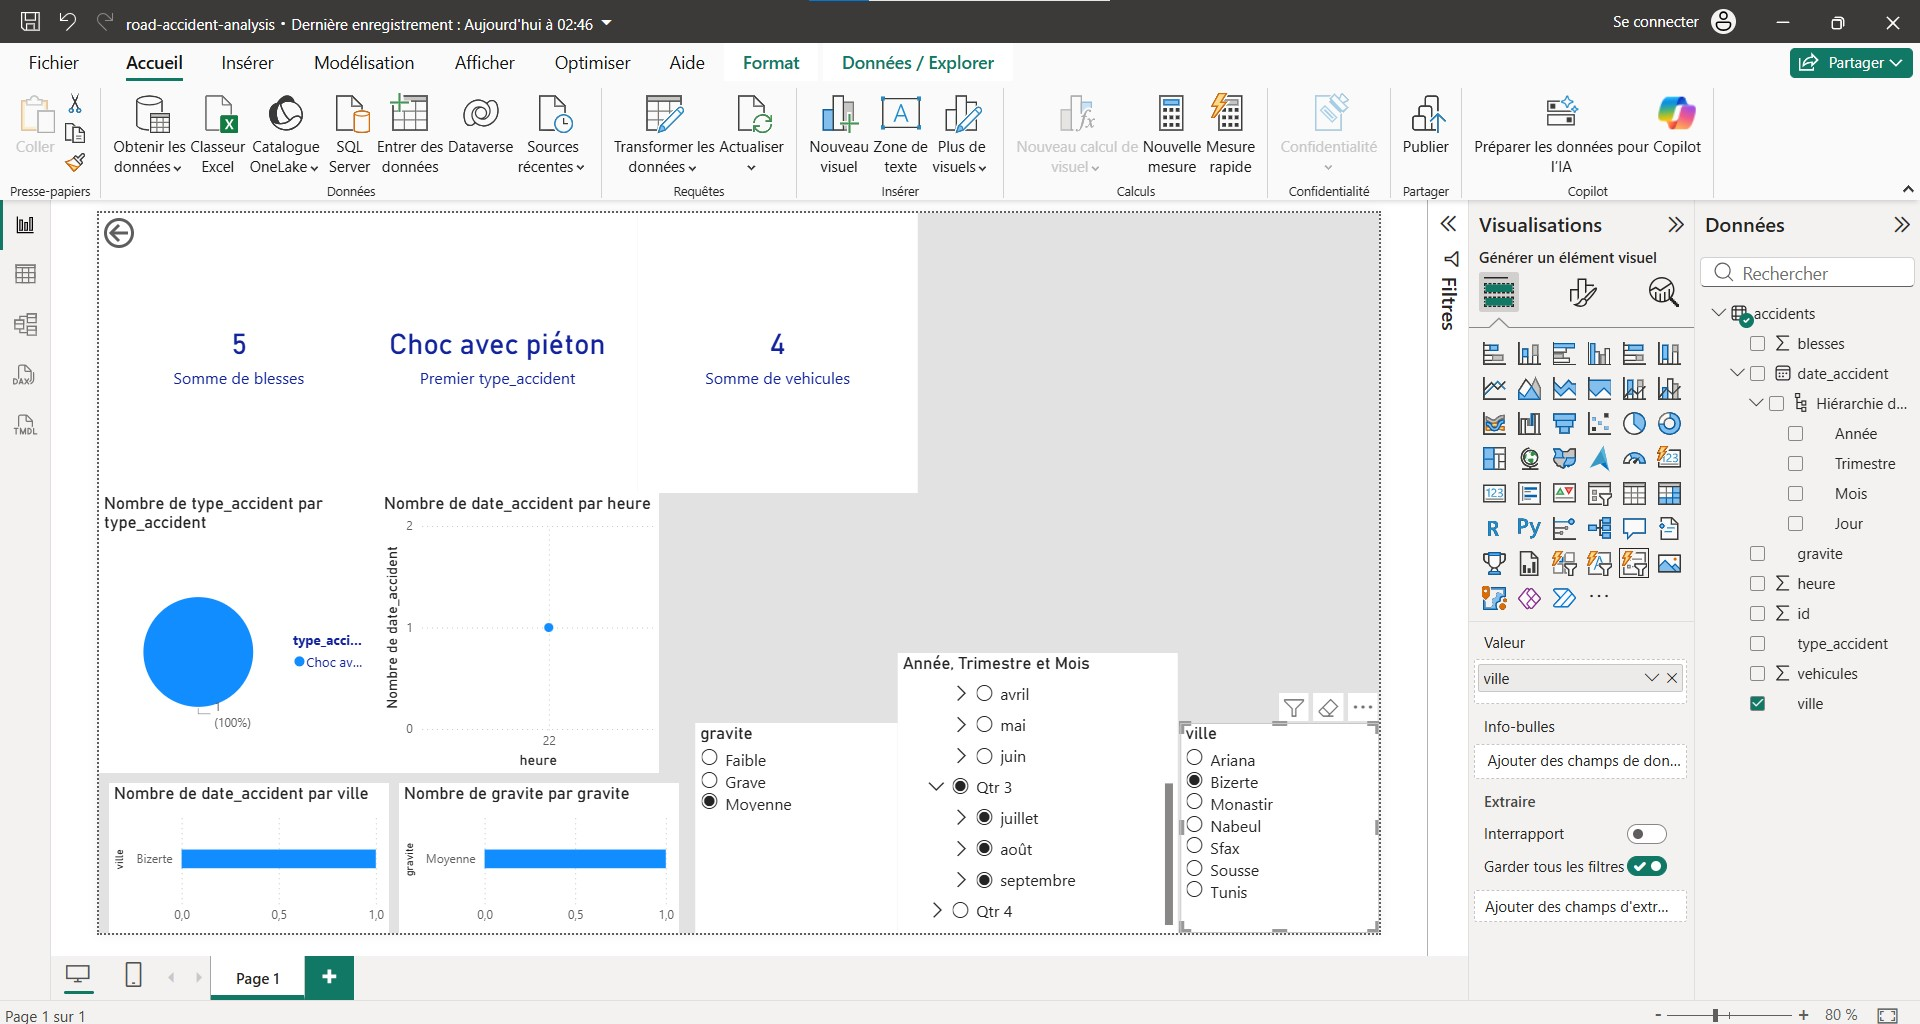

Layout of this report page (visuals, bound fields, positions):
{"tool":"powerbi","page":{"name":"Page 1","canvas":[1280,720],"ordinal":0},"visuals":[{"type":"card","fields":{"Values":["Sum(accidents.blesses)"]},"box":[0,0,280,280],"z":0},{"type":"card","fields":{"Values":["Min(accidents.type_accident)"]},"box":[258.8,0,280,280],"z":1000},{"type":"clusteredBarChart","fields":{"Category":["accidents.ville"],"Y":["CountNonNull(accidents.date_accident)"]},"box":[10,570,280,150],"z":2000},{"type":"pieChart","fields":{"Category":["accidents.type_accident"],"Y":["CountNonNull(accidents.type_accident)"]},"box":[0,280,280,280],"z":3000},{"type":"lineChart","fields":{"Category":["accidents.heure"],"Y":["CountNonNull(accidents.date_accident)"]},"box":[280,280,280,280],"z":4000},{"type":"barChart","fields":{"Category":["accidents.gravite"],"Y":["CountNonNull(accidents.gravite)"]},"box":[300,570,280,150],"z":5000},{"type":"card","fields":{"Values":["Sum(accidents.vehicules)"]},"box":[538.8,0,280,280],"z":6000},{"type":"actionButton","box":[0,0,100,40],"z":7000},{"type":"listSlicer","fields":{"Values":["accidents.ville"]},"box":[1081.2,510,198.8,210],"z":8000},{"type":"listSlicer","fields":{"Values":["accidents.gravite"]},"box":[596.2,510,202.5,210],"z":9000},{"type":"listSlicer","fields":{"Values":["accidents.date_accident.Variation.Hiérarchie de dates.Année","accidents.date_accident.Variation.Hiérarchie de dates.Trimestre","accidents.date_accident.Variation.Hiérarchie de dates.Mois","accidents.date_accident.Variation.Hiérarchie de dates.Jour"]},"box":[798.8,440,280,280],"z":10000}]}

Visuals, with their boxes on the page's 1280x720 design canvas (x1, y1, x2, y2). These are canvas units, not pixel positions in the 1920x1024 screenshot, which may show the page scaled, cropped or inside an application window:
card - Sum(accidents.blesses): (0,0,280,280)
card - Min(accidents.type_accident): (259,0,539,280)
clusteredBarChart - accidents.ville x CountNonNull(accidents.date_accident): (10,570,290,720)
pieChart - accidents.type_accident x CountNonNull(accidents.type_accident): (0,280,280,560)
lineChart - accidents.heure x CountNonNull(accidents.date_accident): (280,280,560,560)
barChart - accidents.gravite x CountNonNull(accidents.gravite): (300,570,580,720)
card - Sum(accidents.vehicules): (539,0,819,280)
actionButton: (0,0,100,40)
listSlicer - accidents.ville: (1081,510,1280,720)
listSlicer - accidents.gravite: (596,510,799,720)
listSlicer - accidents.date_accident.Variation.Hiérarchie de dates.Année x accidents.date_accident.Variation.Hiérarchie de dates.Trimestre: (799,440,1079,720)
